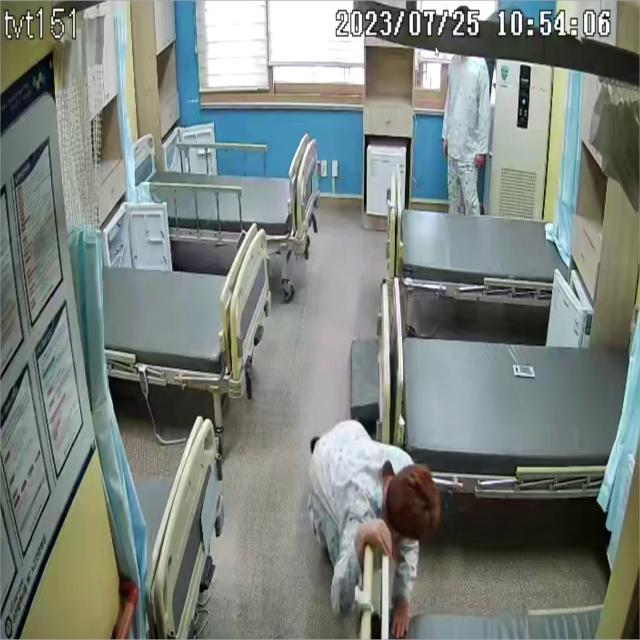bed: (397, 327, 631, 501), (102, 223, 274, 400), (136, 133, 320, 254), (388, 183, 570, 304)
danger: (309, 418, 442, 640)
patient: (310, 418, 441, 638)
